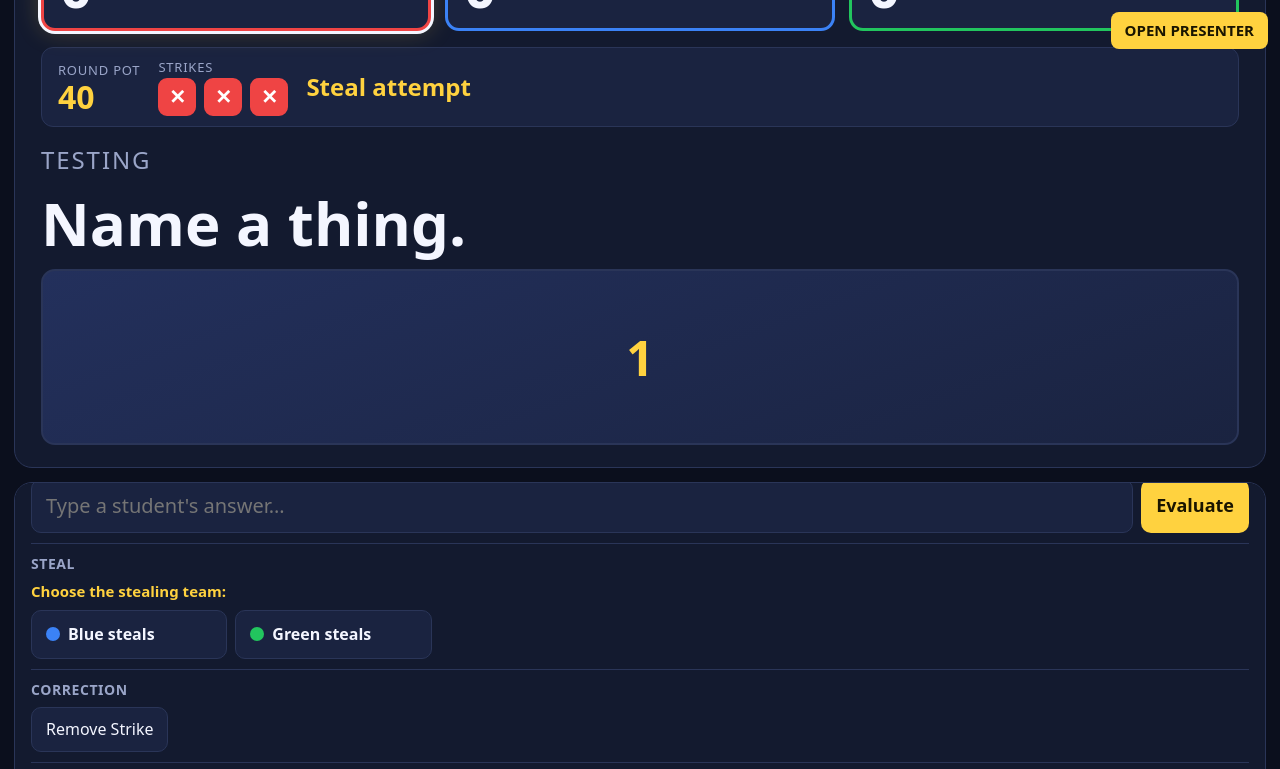
GameScreen answer timer integration › 27. manual steal-team pick (no Team Buttons device) starts the answer timer for that team
The width and height of the screenshot is (1280, 769).
(page scrolled)
Click the button "Blue steals" at (129, 634), box [31, 610, 227, 659]
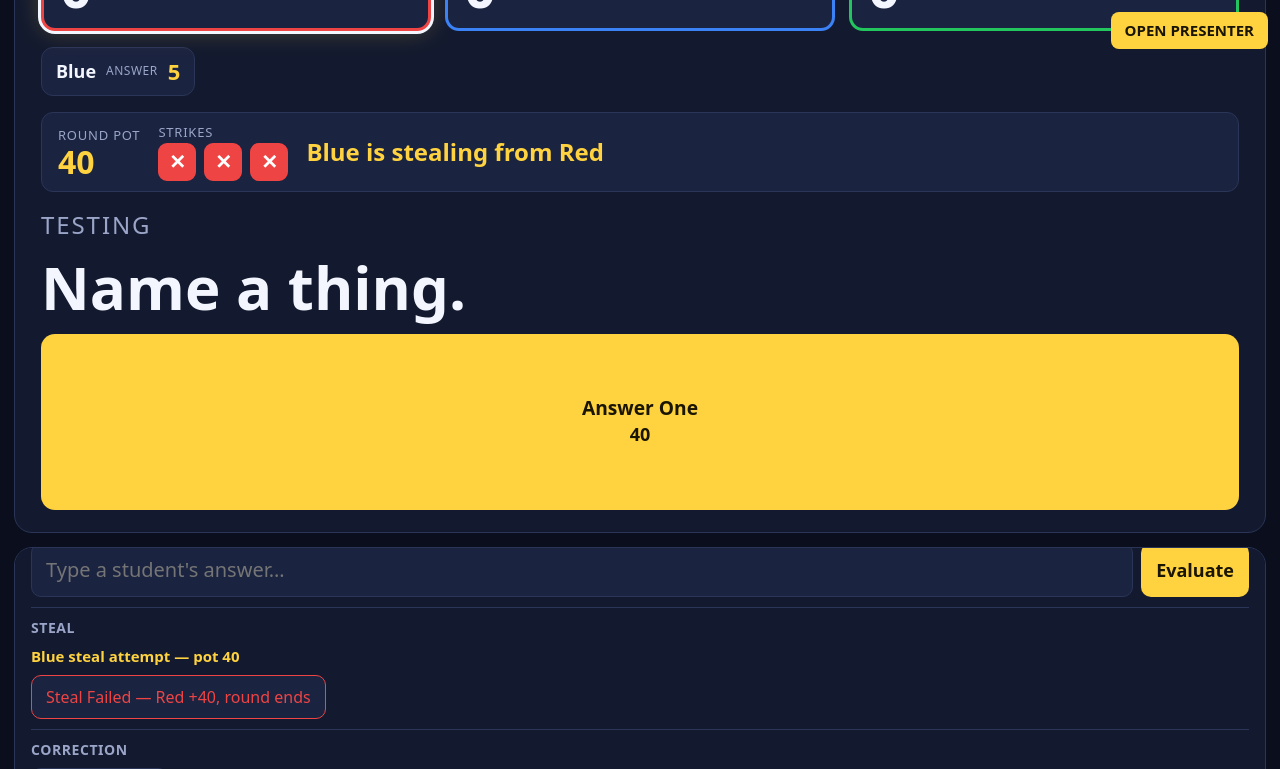
Now the message "Blue ANSWER 5" is shown, box [41, 47, 195, 96]
